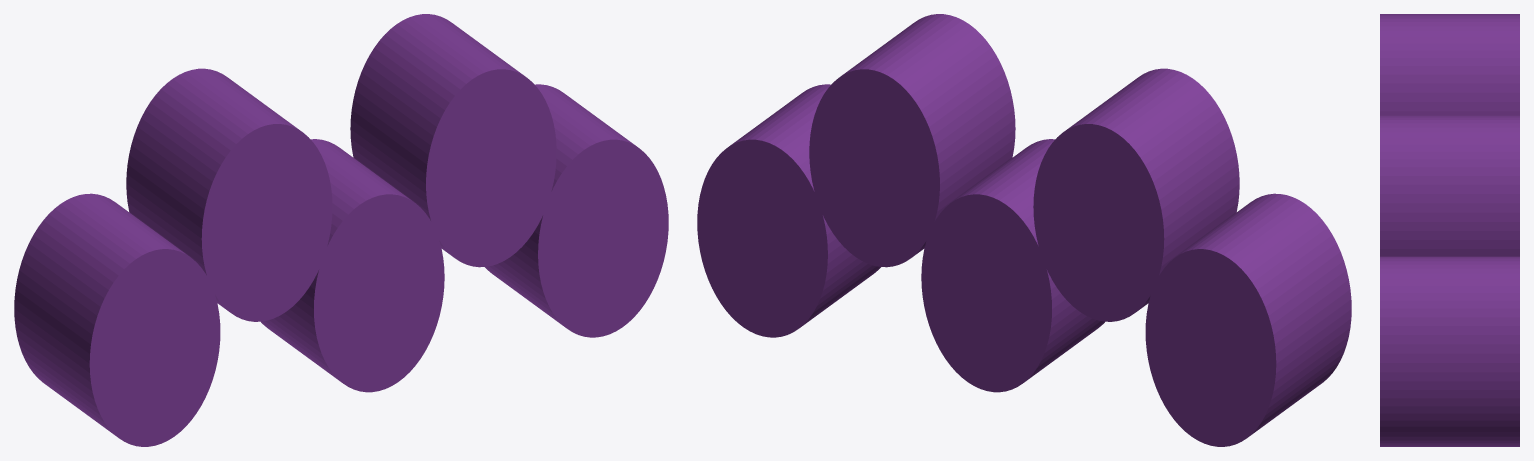
Rendered from tinker.obj.
3 views of the same model, side by side, from view 1: azimuth 30°, elevation 25°; view 2: azimuth 150°, elevation 25°; view 3: azimuth 270°, elevation 25° (orthographic). The views are drawn at different scales.
Visible parts, largest first — view 1: obj_0; view 2: obj_0; view 3: obj_0.
Boxes of the visible parts, x1=… form: obj_0: x1=14, y1=14, x2=668, y2=446; obj_0: x1=697, y1=14, x2=1351, y2=446; obj_0: x1=1380, y1=14, x2=1519, y2=446.
Size of the model in its own units: 155 by 75 by 35.
